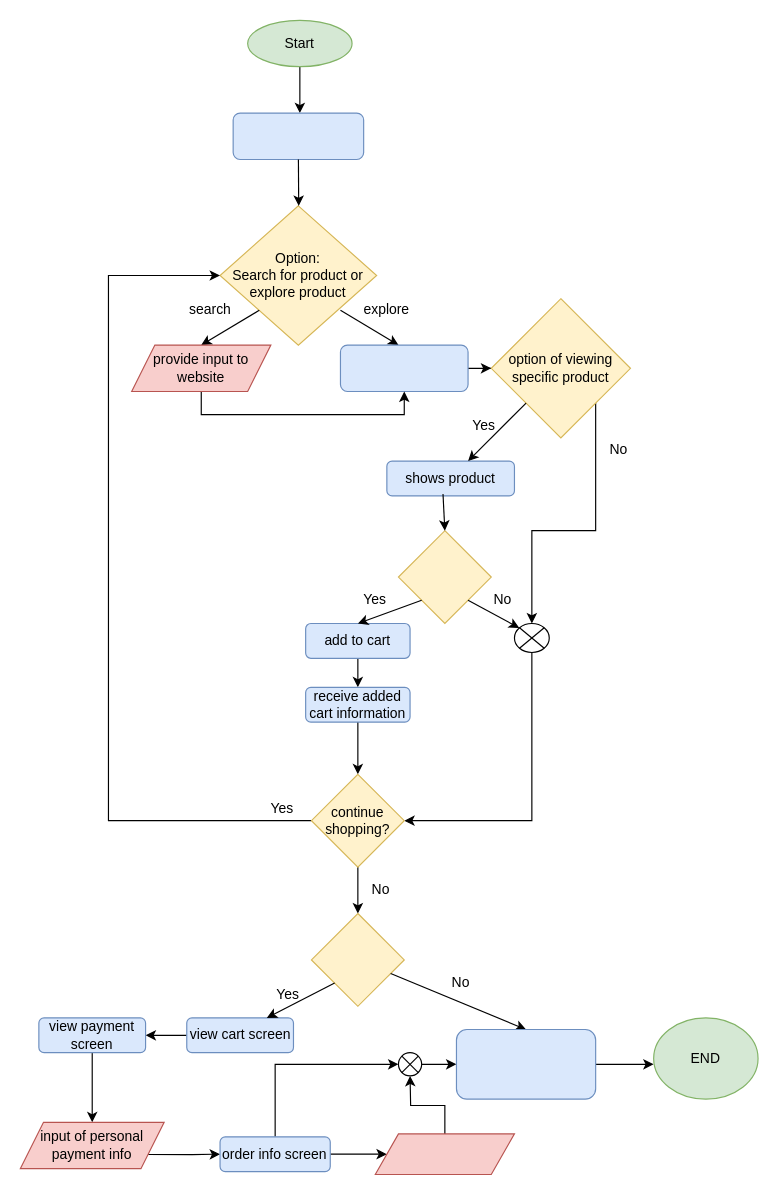
Image size: 778x1195. Some labels were removed from this diagram. Each missing label, with the centre of its shape:
"add to cart?" goes at (444,577).
"checkout?" goes at (357,959).
"e-mail to user" goes at (444,1153).
"entering website" goes at (298,136).
"looking over products" goes at (403,368).
"user leaves website" goes at (525,1063).
